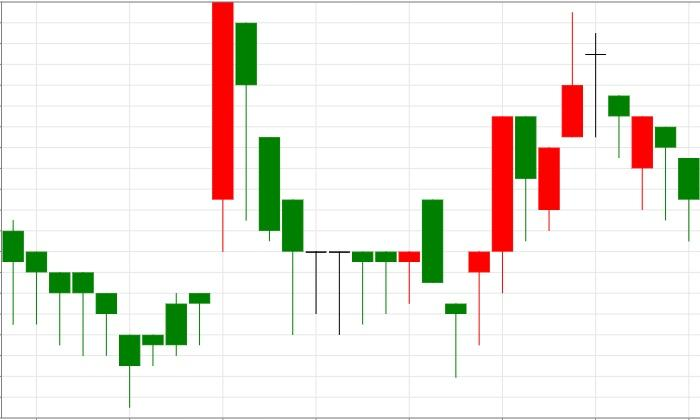hanging_man_fall: (119, 1, 258, 408)
